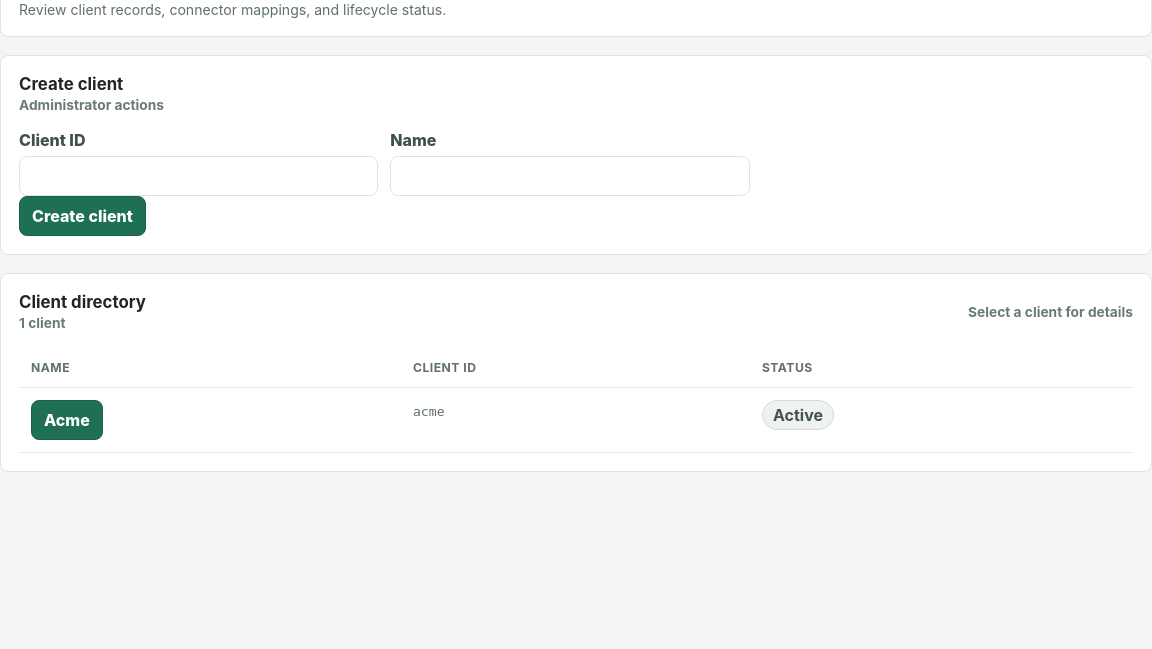
Test: Clients › loads client detail and mappings when a client is selected
The width and height of the screenshot is (1152, 649).
Click the button "Acme".
click(67, 420)  # box [31,400,103,440]
(page scrolled)
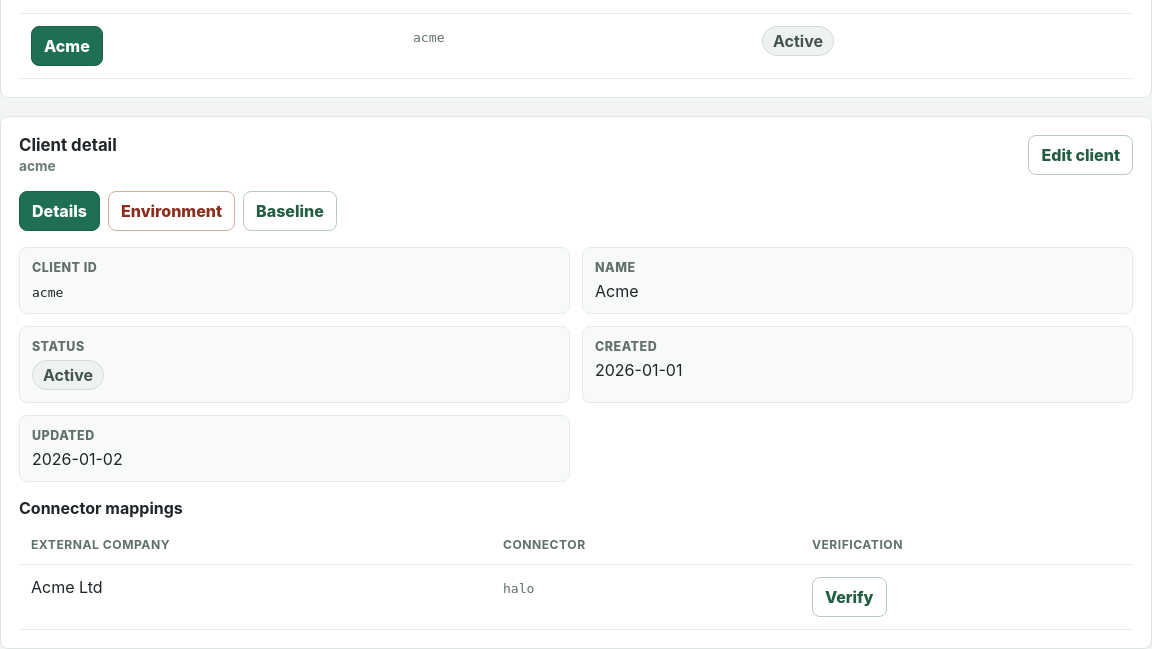
Expected: the heading "Client detail" is shown, [19,135,117,155]
Expected: the text "Acme Ltd" is shown, [19,564,491,630]
